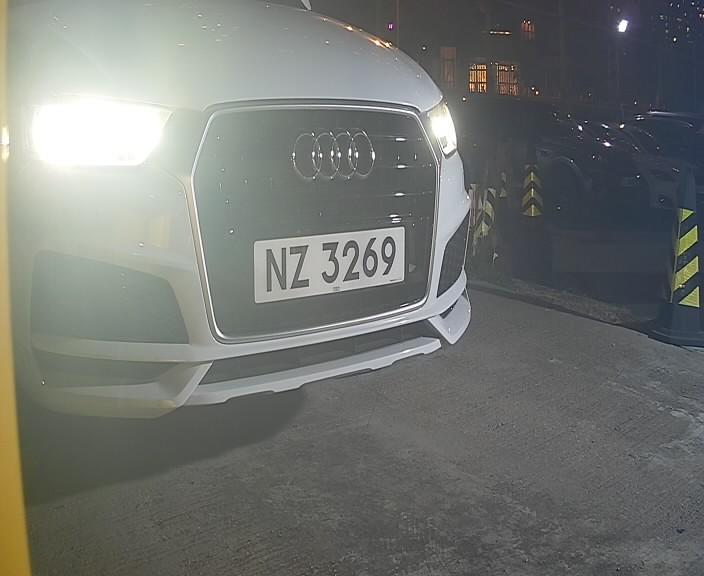privatecar: (2, 6, 501, 406)
